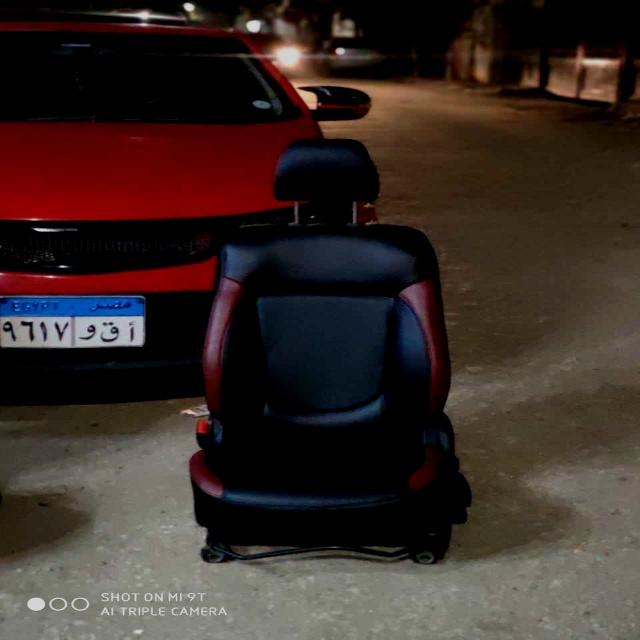License Plate: (1, 292, 150, 352)
